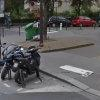Motorcycle: (2, 36, 49, 91)
